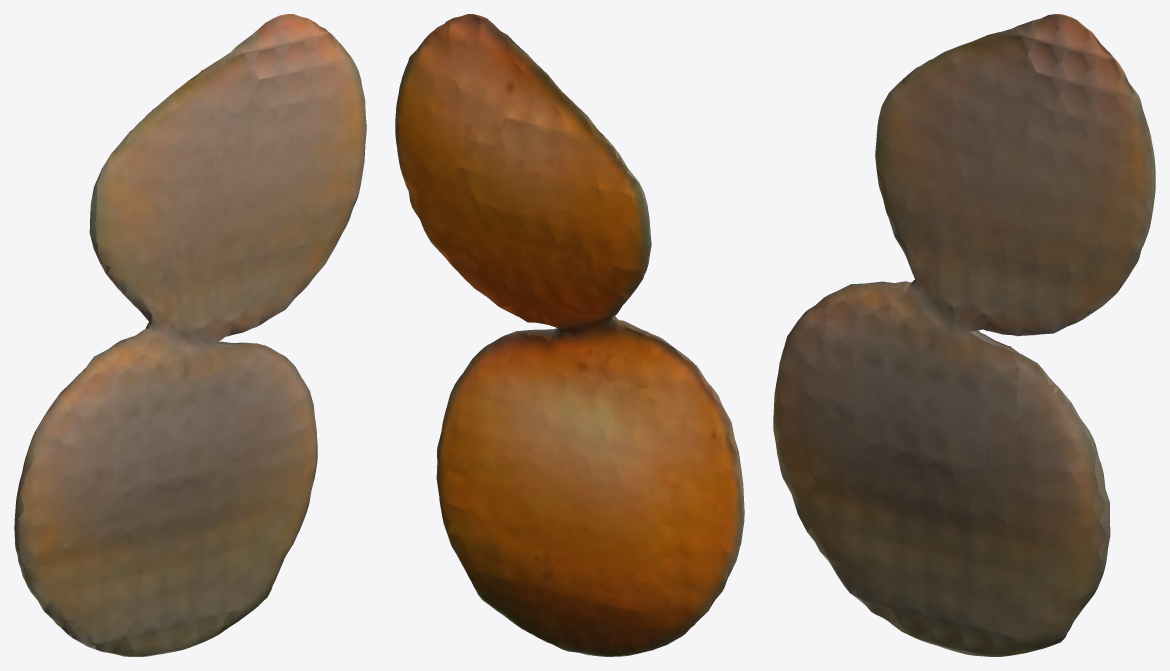
The model's file is nuxvomica.glb.
The picture shows the model from 3 angles, left to right: view 1: azimuth 30°, elevation 25°; view 2: azimuth 150°, elevation 25°; view 3: azimuth 330°, elevation 25°; orthographic projection. The views are drawn at different scales.
Parts seen in each view (by area): view 1: world; view 2: world; view 3: world.
Boxes of the visible parts, left/top/right/bottom form: world: left=14, top=14, right=366, bottom=656; world: left=395, top=14, right=744, bottom=656; world: left=773, top=14, right=1155, bottom=656.
Size of the model in its own units: 0.5144 by 0.8628 by 0.0738.
1 material, 1 textured.
